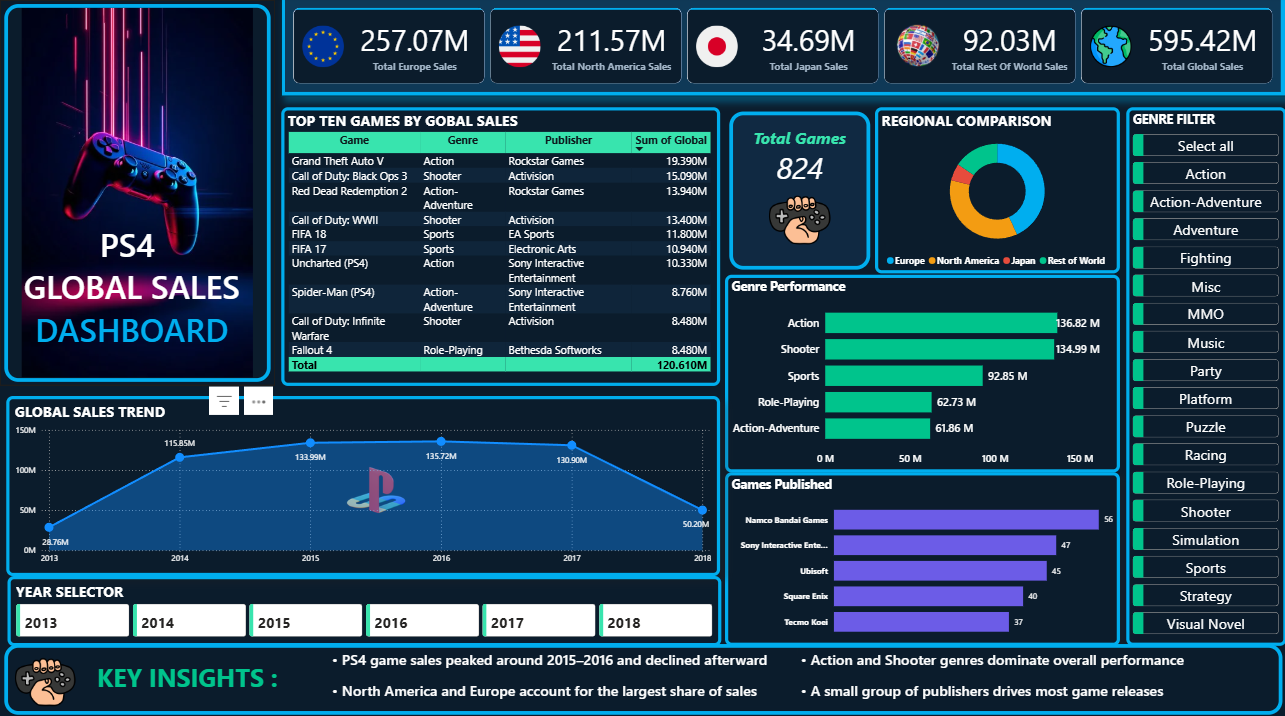

The dashboard page shown, as its layout file describes it:
{"tool":"powerbi","page":{"name":"PS4 Global Sales ","canvas":[1920,1080],"ordinal":0},"visuals":[{"type":"cardVisual","fields":{"Data":["PS4_GamesSales.Total Europe Sales","PS4_GamesSales.Total NA Sales","PS4_GamesSales.Total Japan Sales","PS4_GamesSales.Total ROW Sales","PS4_GamesSales.Total Global Sales"]},"box":[419.8,0,1500.2,149.3],"z":0},{"type":"tableEx","title":"TOP TEN GAMES BY GOBAL SALES","fields":{"Values":["PS4_GamesSales.Game","PS4_GamesSales.Genre","PS4_GamesSales.Publisher","Sum(PS4_GamesSales.Global)"]},"box":[419.8,166.1,654.9,416.1],"z":1000},{"type":"clusteredBarChart","title":"Games Published ","fields":{"Y":["CountNonNull(PS4_GamesSales.Global)"],"Category":["PS4_GamesSales.Publisher"]},"box":[1082.2,710.9,589.6,259.4],"z":2000},{"type":"donutChart","title":"REGIONAL COMPARISON","fields":{"Y":["Sum(PS4_GamesSales.Europe)","Sum(PS4_GamesSales.North America)","Sum(PS4_GamesSales.Japan)","Sum(PS4_GamesSales.Rest of World)"]},"box":[1306.2,166.1,365.7,248.2],"z":3000},{"type":"listSlicer","title":"GENRE FILTER","fields":{"Values":["PS4_GamesSales.Genre"]},"box":[1681.2,166.1,238.8,804.2],"z":4000},{"type":"clusteredBarChart","title":"Genre Performance","fields":{"Category":["PS4_GamesSales.Genre"],"Y":["Sum(PS4_GamesSales.Global)"]},"box":[1082.2,416.1,589.6,294.8],"z":5000},{"type":"cardVisual","fields":{"Data":["PS4_GamesSales.Total Games"]},"box":[1082.2,166.1,223.9,248.2],"z":6000},{"type":"lineChart","title":"GLOBAL SALES TREND","fields":{"Category":["PS4_GamesSales.Year"],"Y":["Sum(PS4_GamesSales.Global)"]},"box":[9.3,597.1,1065.5,268.7],"z":7000},{"type":"advancedSlicerVisual","title":"YEAR SELECTOR","fields":{"Values":["PS4_GamesSales.Year"]},"box":[11.2,865.8,1065.5,104.5],"z":8000},{"type":"textbox","box":[490.7,970.3,700,90],"z":9000,"group":"g2"},{"type":"textbox","box":[1190.5,970.3,700,90],"z":10000,"group":"g2"},{"type":"textbox","box":[139,987.4,280.1,74.6],"z":11000,"group":"g2"},{"type":"group","id":"g1","title":"PS 4 GOBAL SALES","box":[0,5.6,410.5,576.6],"z":12000},{"type":"cardVisual","fields":{"Data":["PS4_GamesSales.Key Insight"]},"box":[11.2,969.3,408.6,110.1],"z":13000,"group":"g2"},{"type":"cardVisual","fields":{"Data":["PS4_GamesSales.Key Insight"]},"box":[0,960.7,1920.4,118.9],"z":14000,"group":"g2"},{"type":"group","id":"g2","title":"KEY INSIGHTS","box":[0,960.7,1920.4,118.9],"z":14001},{"type":"cardVisual","fields":{"Data":["PS4_GamesSales.Key Insight"]},"box":[0,5.6,410.5,576.6],"z":14500,"group":"g1"},{"type":"textbox","box":[9.3,332.1,375.1,207.1],"z":15000,"group":"g1"}]}

Visuals, with their boxes in screenshot pixels (x1, y1, x2, y2), scaled from the page's 1920x1080 canvas onto the 1285x716 screenshot:
cardVisual - PS4_GamesSales.Total Europe Sales x PS4_GamesSales.Total NA Sales: bbox(281, 0, 1284, 99)
"TOP TEN GAMES BY GOBAL SALES" tableEx: bbox(281, 110, 719, 386)
"Games Published " clusteredBarChart: bbox(724, 471, 1119, 643)
"REGIONAL COMPARISON" donutChart: bbox(874, 110, 1119, 275)
"GENRE FILTER" listSlicer: bbox(1125, 110, 1284, 643)
"Genre Performance" clusteredBarChart: bbox(724, 276, 1119, 471)
cardVisual - PS4_GamesSales.Total Games: bbox(724, 110, 874, 275)
"GLOBAL SALES TREND" lineChart: bbox(6, 396, 719, 574)
"YEAR SELECTOR" advancedSlicerVisual: bbox(7, 574, 721, 643)
textbox: bbox(328, 643, 797, 703)
textbox: bbox(797, 643, 1265, 703)
textbox: bbox(93, 655, 280, 704)
"PS 4 GOBAL SALES" group: bbox(0, 4, 275, 386)
cardVisual - PS4_GamesSales.Key Insight: bbox(7, 643, 281, 715)
cardVisual - PS4_GamesSales.Key Insight: bbox(0, 637, 1284, 715)
"KEY INSIGHTS" group: bbox(0, 637, 1284, 715)
cardVisual - PS4_GamesSales.Key Insight: bbox(0, 4, 275, 386)
textbox: bbox(6, 220, 257, 357)
